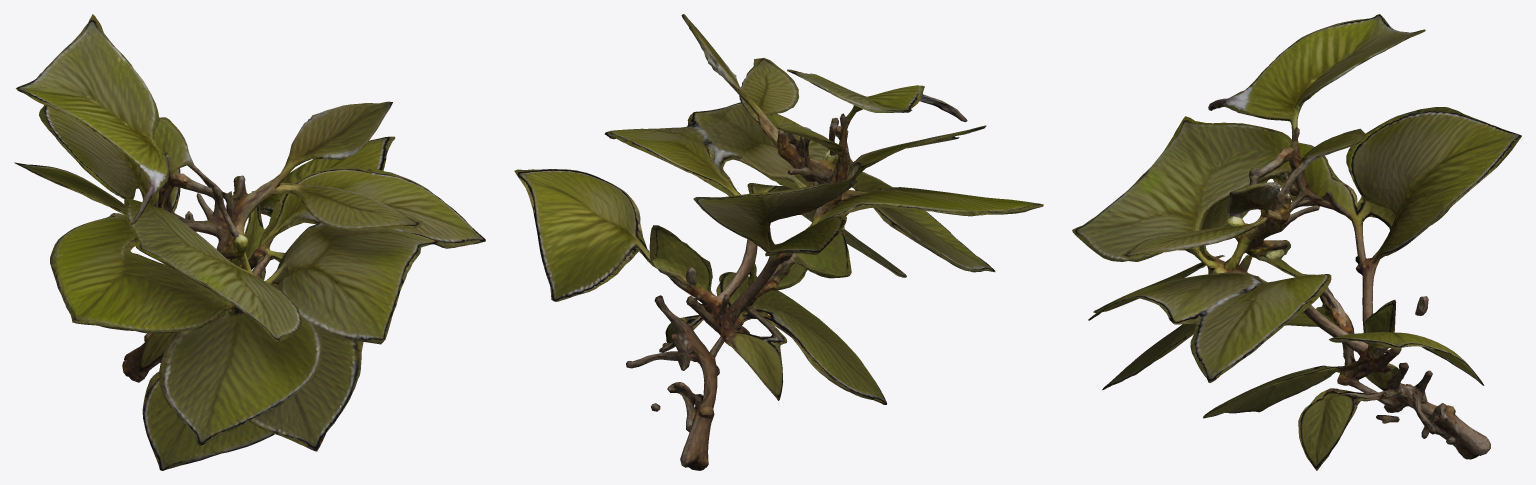
Rendered from leaves.glb.
The picture shows the model from 3 angles, left to right: view 1: azimuth 30°, elevation 25°; view 2: azimuth 150°, elevation 25°; view 3: azimuth 270°, elevation 25°; orthographic projection.
Visible parts, largest first — view 1: world; view 2: world; view 3: world.
Part boxes in pixels (left/top/right/bottom): world: left=14, top=14, right=485, bottom=470; world: left=514, top=14, right=1043, bottom=470; world: left=1072, top=14, right=1521, bottom=470.
Size of the model in its own units: 0.9591 by 0.8614 by 0.8854.
1 material, 1 textured.
